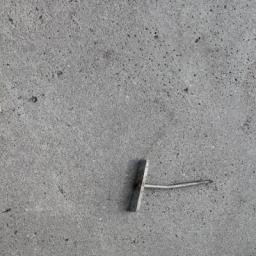FOD: (128, 158, 215, 215)
